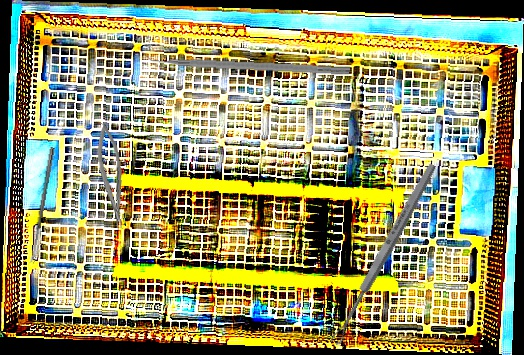Chopper: (139, 44, 351, 76)
Needle Holder: (94, 121, 128, 231)
Surgical Spoon: (328, 161, 439, 347), (29, 146, 55, 265)
